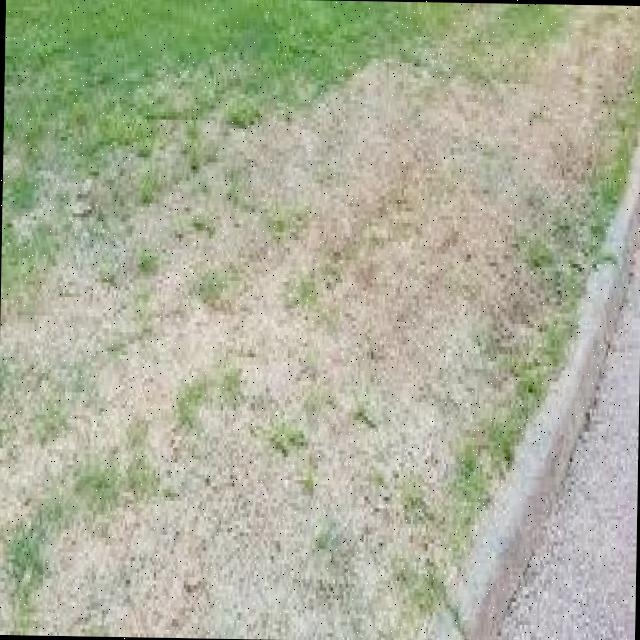curb: (421, 446, 565, 640), (511, 307, 626, 471), (581, 177, 640, 301)
